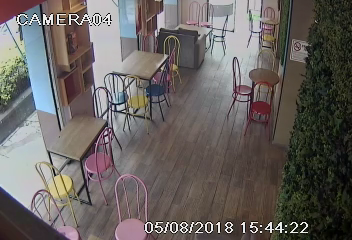libre: (18, 94, 126, 207), (96, 46, 191, 111), (231, 47, 278, 131), (161, 2, 224, 58), (247, 5, 283, 48)
